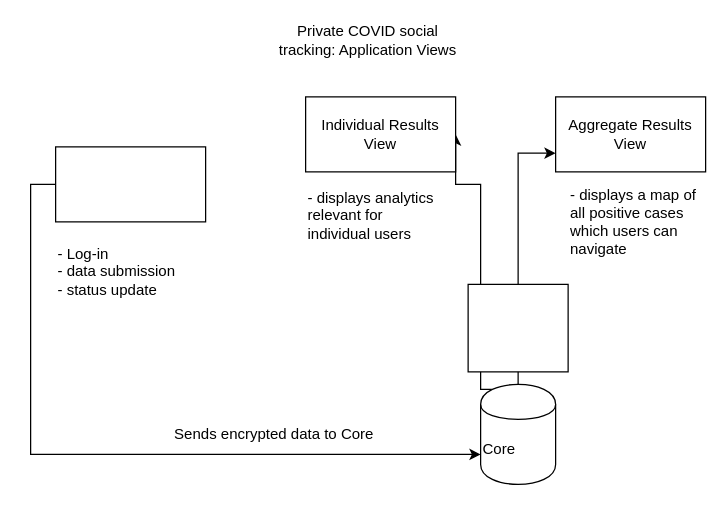
Some shapes in this 728 by 506 pixel diagram are drawn without their labels. Each missing label, with the box of its shape:
Adding Data View: (54, 146, 206, 222)
Receive aggregate data from Core: (467, 283, 568, 372)
